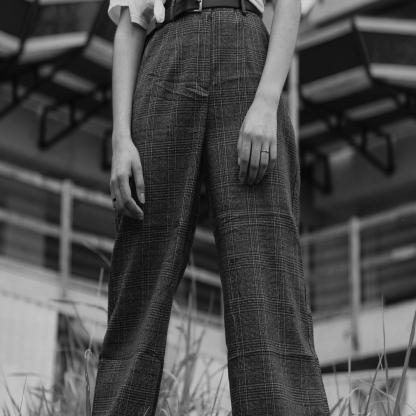dress: (90, 7, 333, 416)
